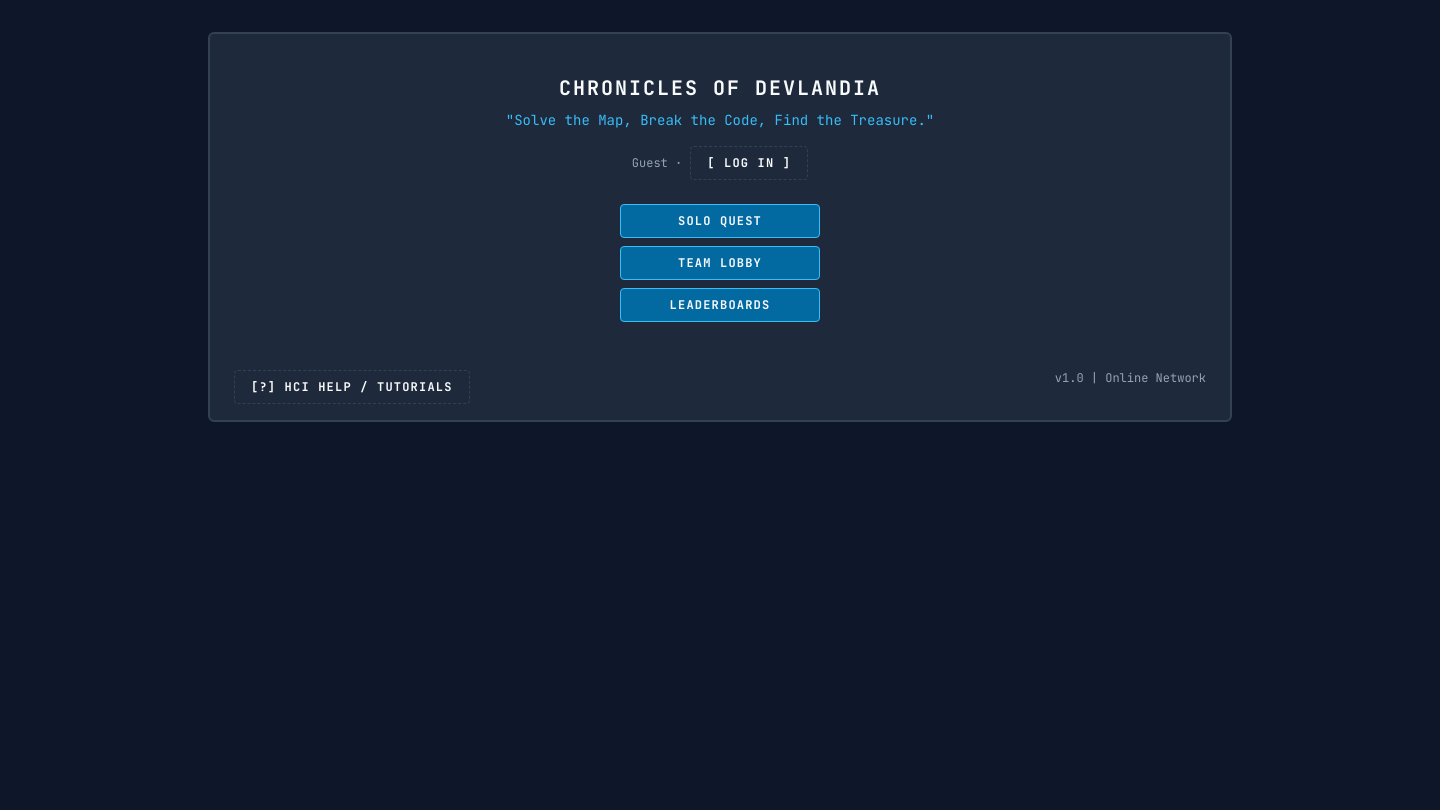
Landing page backdrop › only on the landing page
Click the button "Solo Quest": (720, 221) [620,204,820,238]
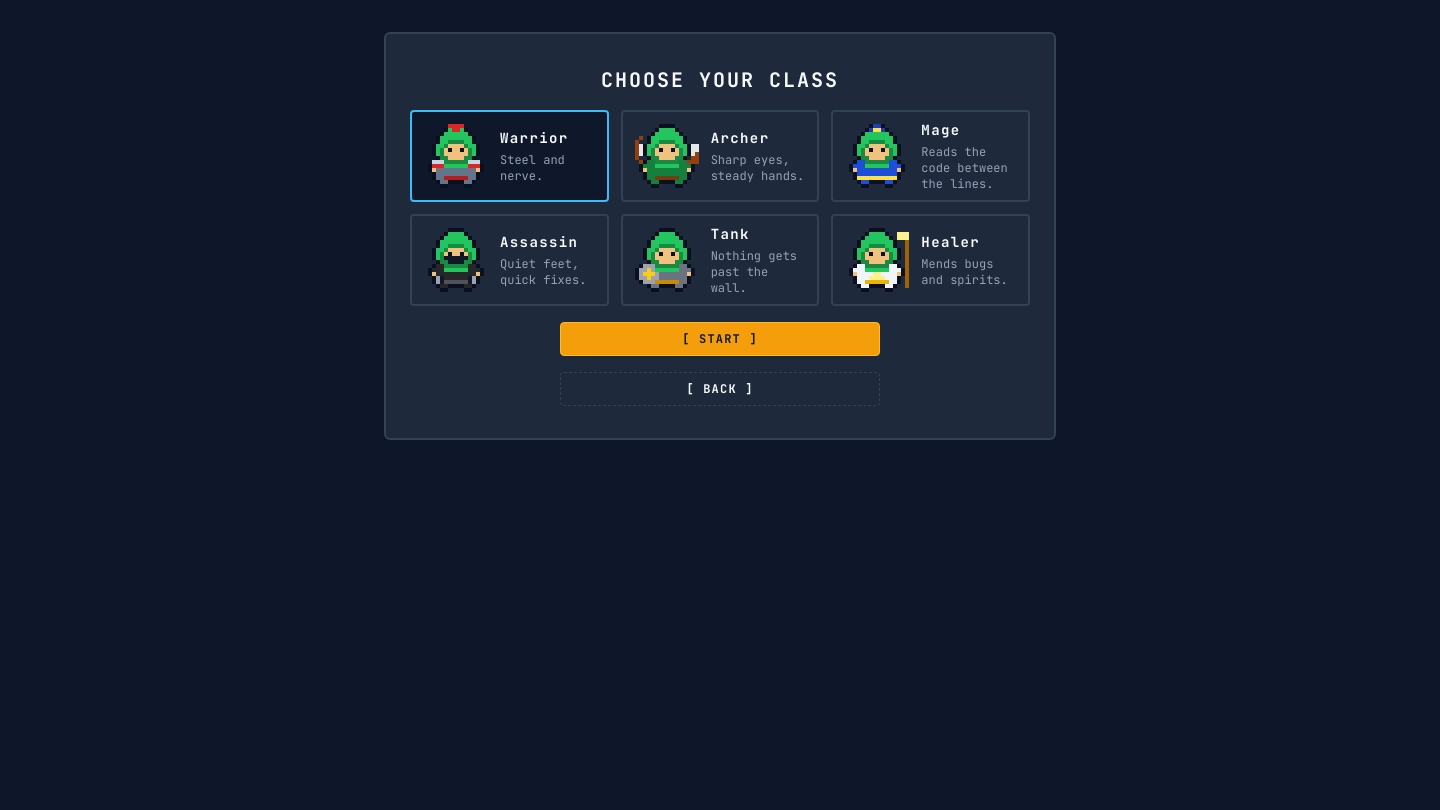
Click the button "[ Start ]": (720, 339) [560,322,880,356]
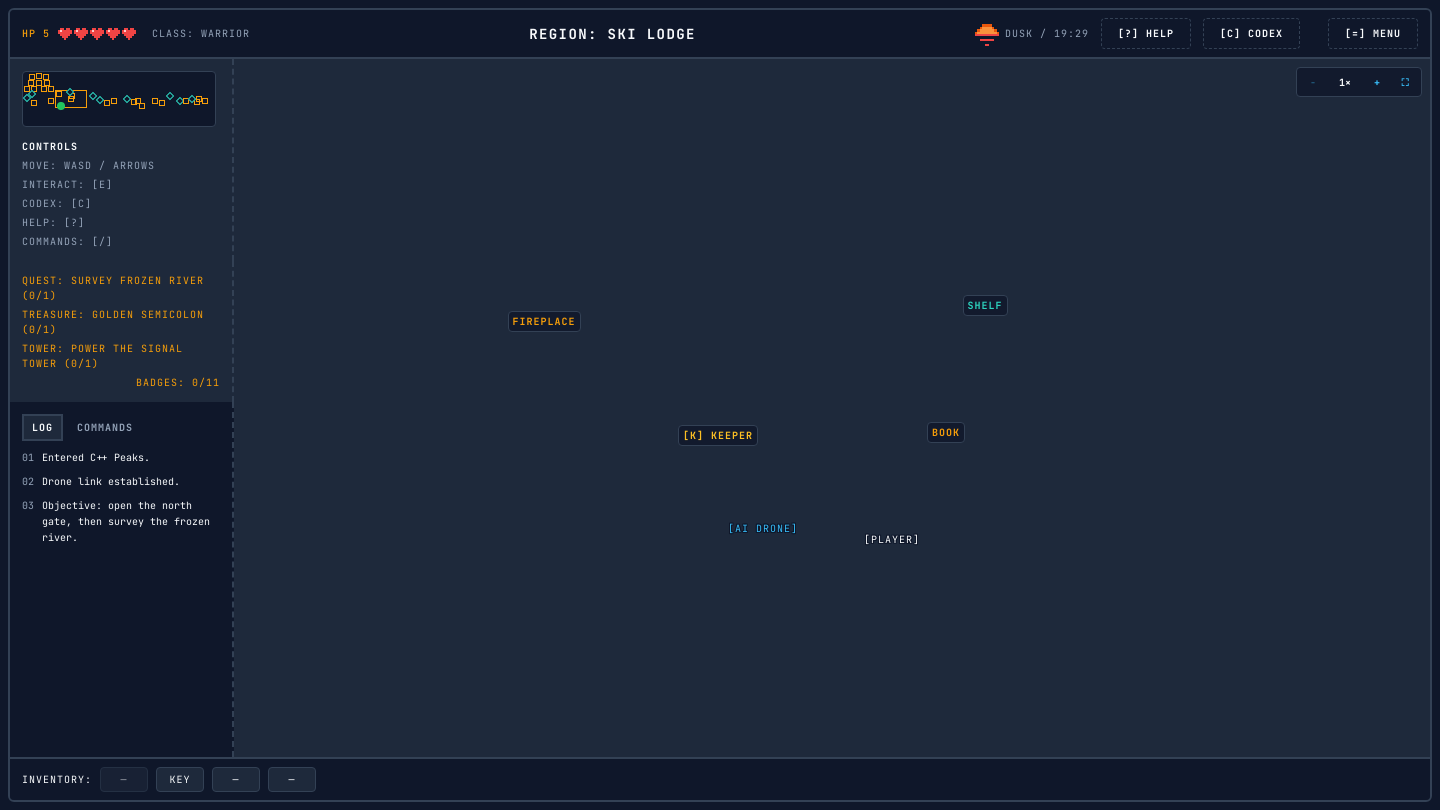
Expected: the element with test id "menu-backdrop" is gone
